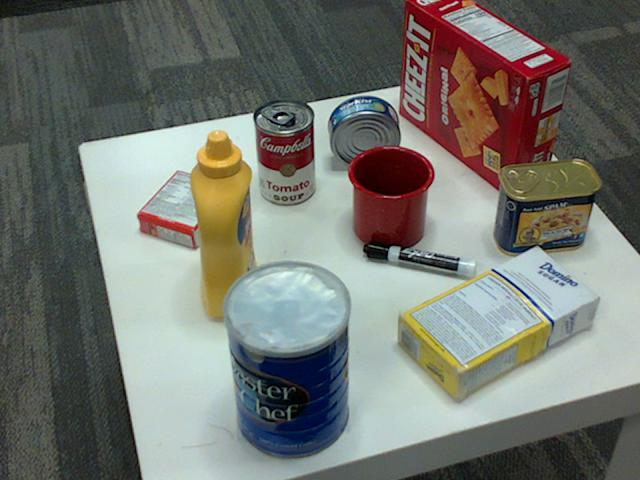cracker_box: (399, 0, 570, 196)
gelatin_box: (134, 167, 231, 246)
large_marker: (364, 241, 477, 282)
master_chef_can: (220, 263, 349, 461)
mug: (345, 144, 433, 249)
mustard_bottle: (187, 130, 257, 317)
potted_meat_can: (492, 160, 598, 256)
sugar_box: (394, 245, 597, 401)
tomato_soup_can: (252, 99, 314, 205)
tuna_fish_can: (326, 95, 399, 169)
